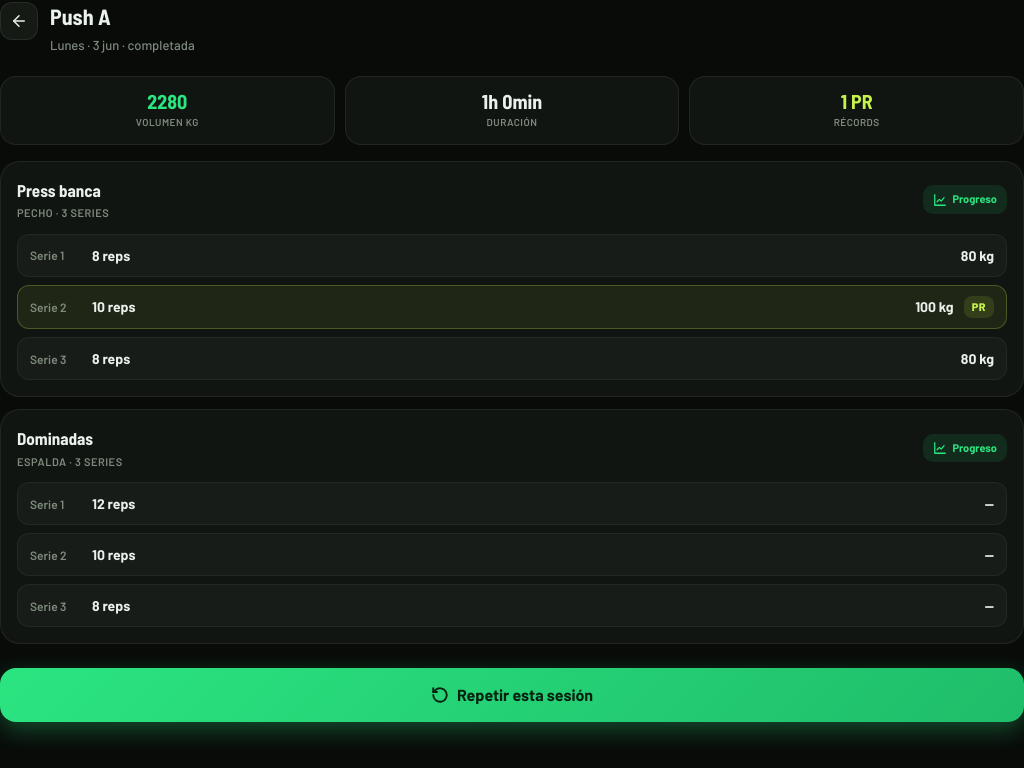
Test case: SessionDetailPage — progress chart sheet › opens the progress sheet when an exercise card header is clicked
This screenshot has width=1024, height=768.
Expected: the text "Press banca" is shown, [17,178,109,203]
# Each exercise card has a "Progreso" button
Click the button "Press banca Pecho · 3 series Progreso" at x=59, y=190, box [17,178,1007,222]
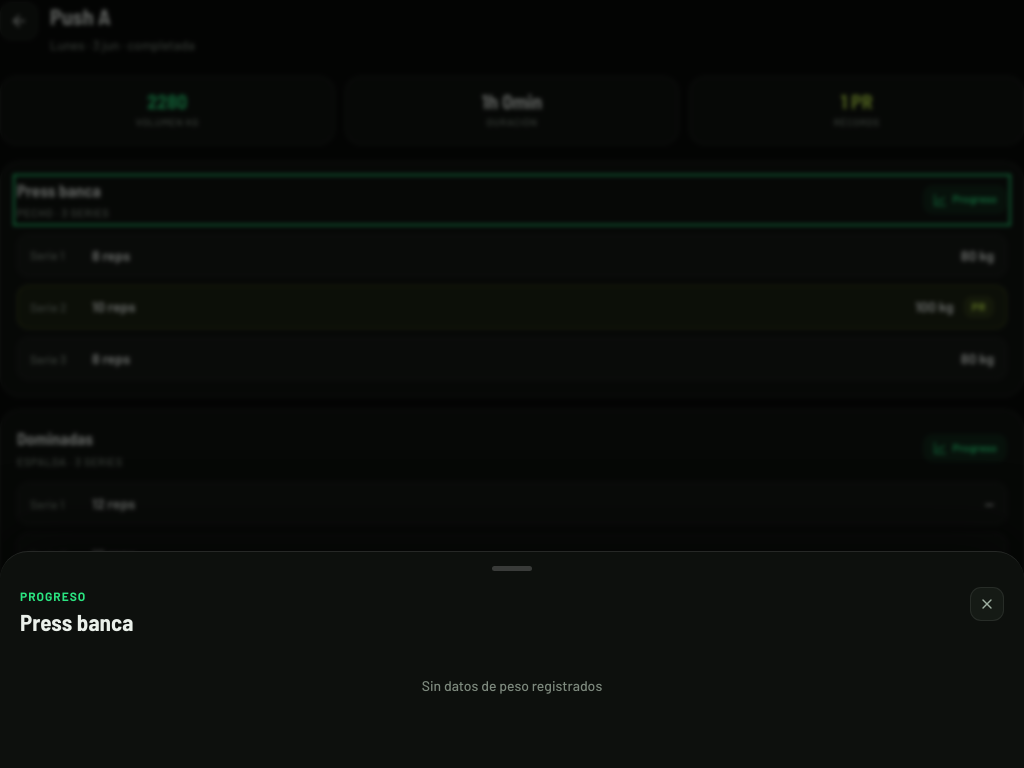
Result: the text "Sin datos de peso registrados" is shown at [422,677,602,694]
